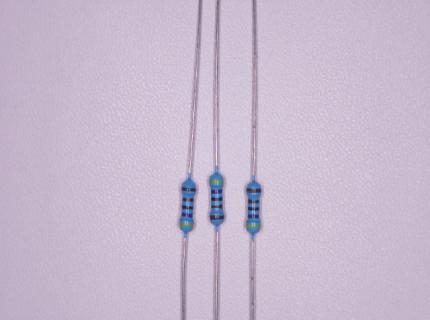Black band: (211, 197, 223, 201), (182, 206, 193, 210), (248, 207, 259, 211)
Brown band: (246, 188, 261, 193), (182, 187, 196, 192), (210, 215, 224, 220), (182, 197, 194, 202), (248, 199, 259, 204), (211, 204, 222, 208)
Violet band: (182, 212, 193, 218), (248, 214, 260, 219), (211, 190, 222, 194)
Yellow band: (210, 180, 224, 184), (180, 223, 193, 227), (247, 224, 260, 228)
